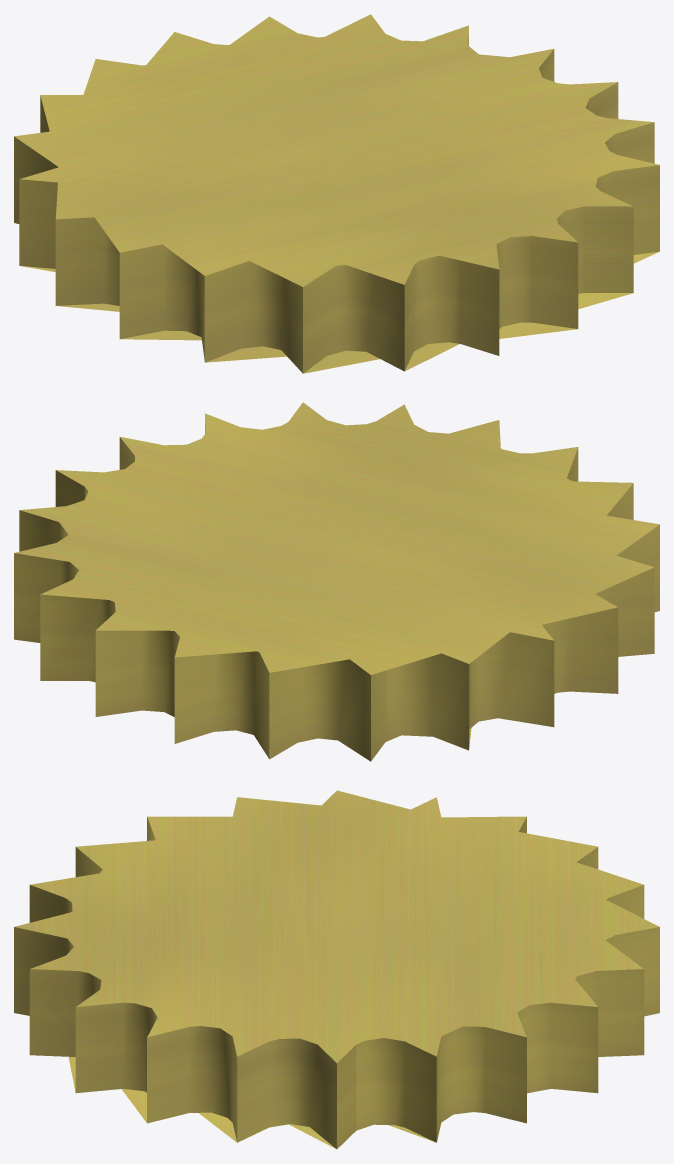
Rendered from Sprocket020.fbx.
3 renders of one model, top to bottom at view 1: azimuth 30°, elevation 25°; view 2: azimuth 150°, elevation 25°; view 3: azimuth 270°, elevation 25°, orthographic.
Visible parts, largest first — view 1: Sprocket020; view 2: Sprocket020; view 3: Sprocket020.
Boxes of the visible parts, x1,y1,x2,y2 form: Sprocket020: (14, 14, 659, 373); Sprocket020: (14, 402, 659, 761); Sprocket020: (14, 790, 659, 1149).
Size of the model in its own units: 134 by 19.69 by 134.
